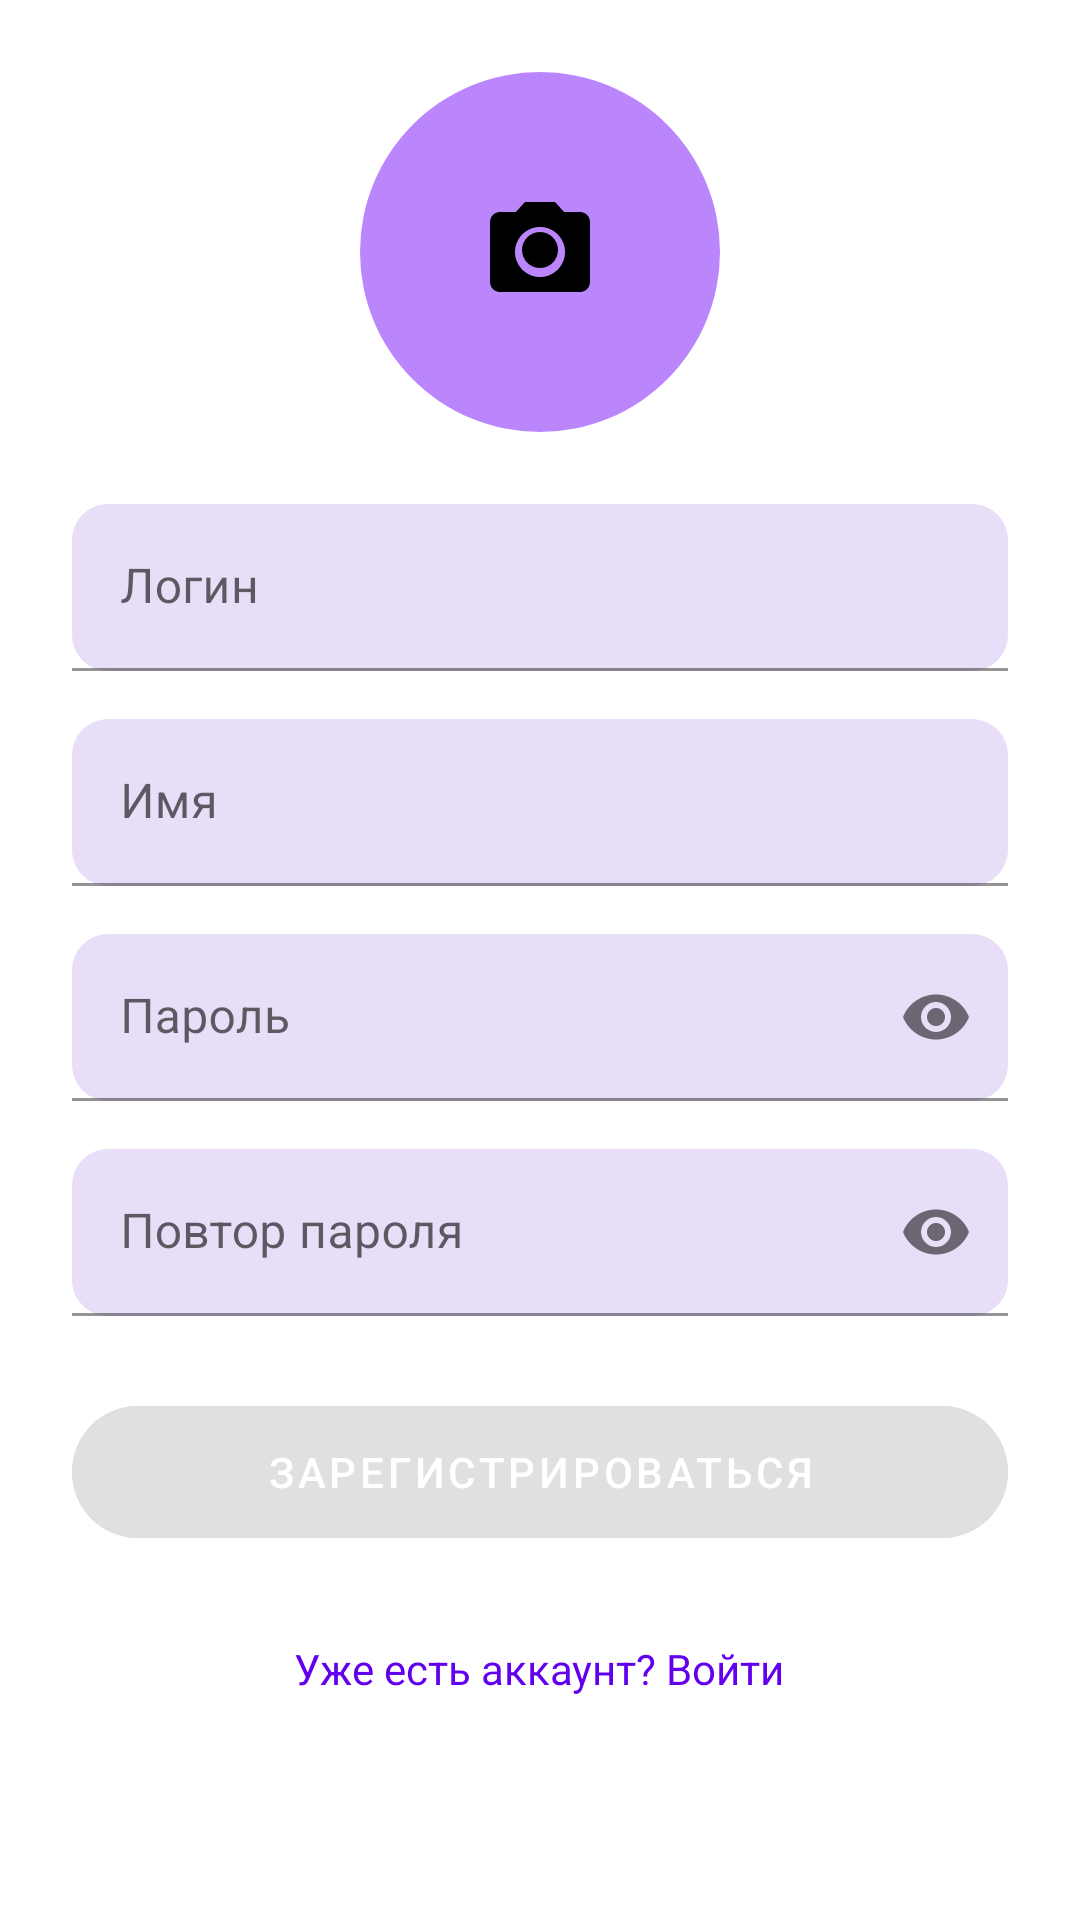

Screen size 1080 × 1920. Icon name, then its center in pixels as [x,y]:
camera: [540,247]
